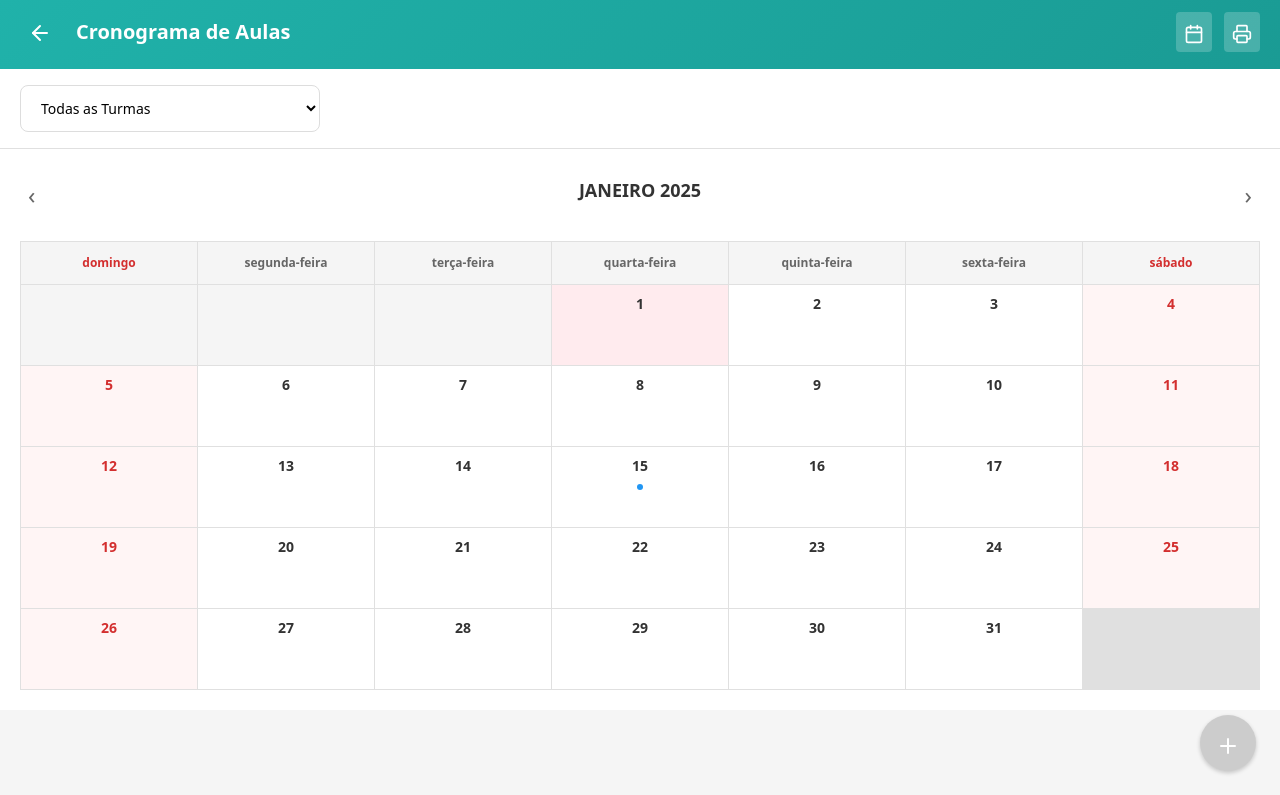
Test: CronogramaPage › abre dialog de edição de aula
Click the text "15" at (640, 465), box [632, 455, 648, 476]
(page scrolled)
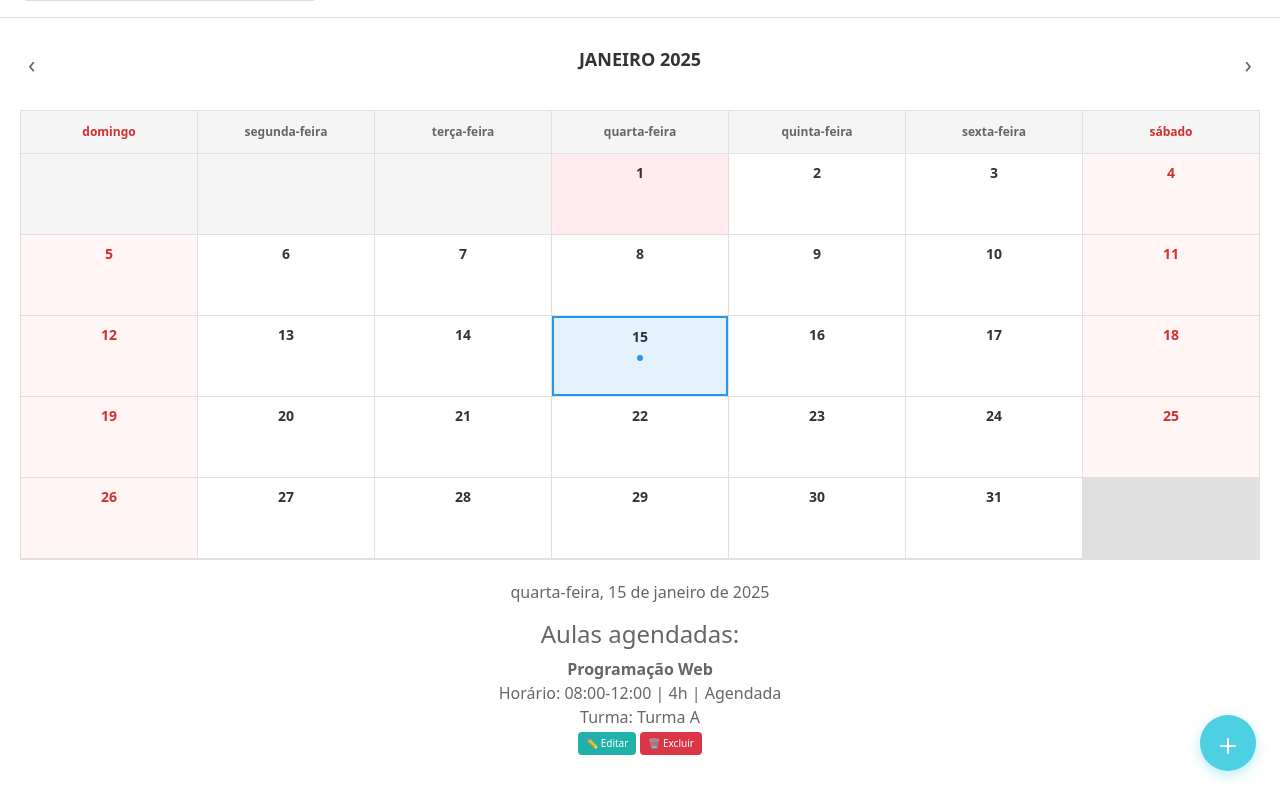
Click the button "✏️ Editar" at (607, 743), box [578, 732, 636, 754]
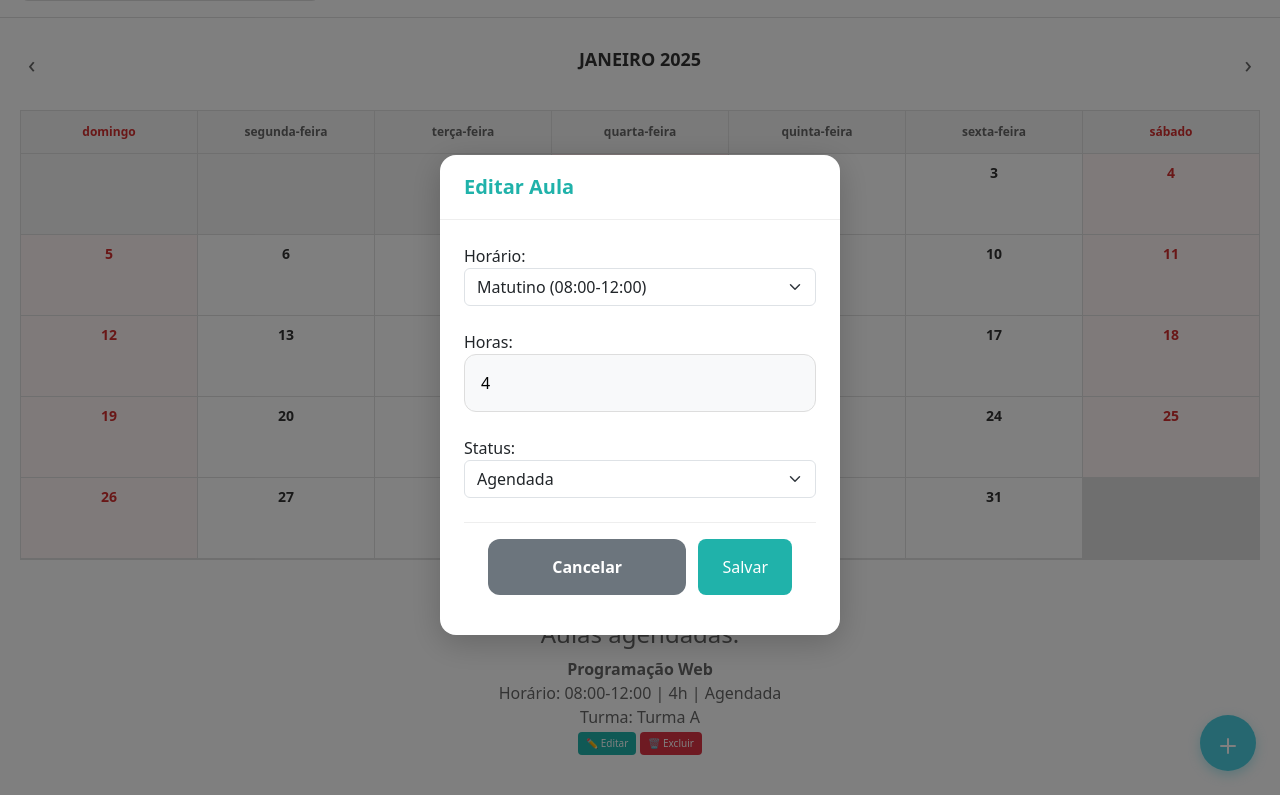
Expected: the heading "Editar Aula" is shown, [464, 175, 574, 199]
